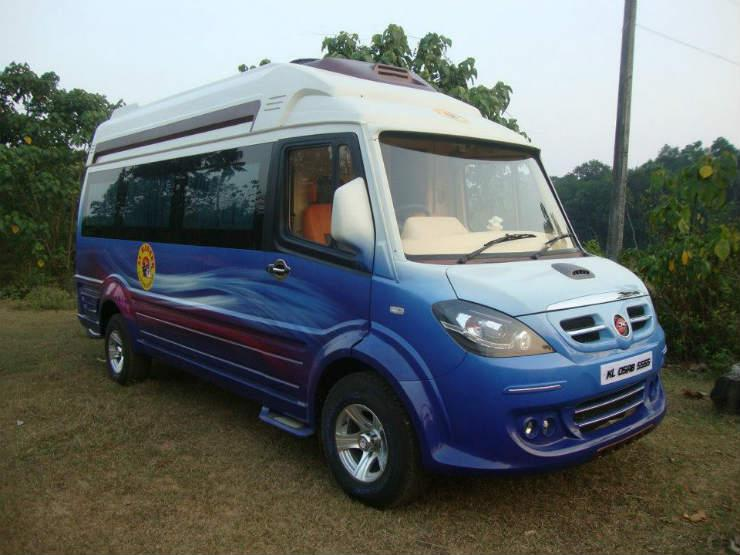van: (71, 57, 667, 510)
